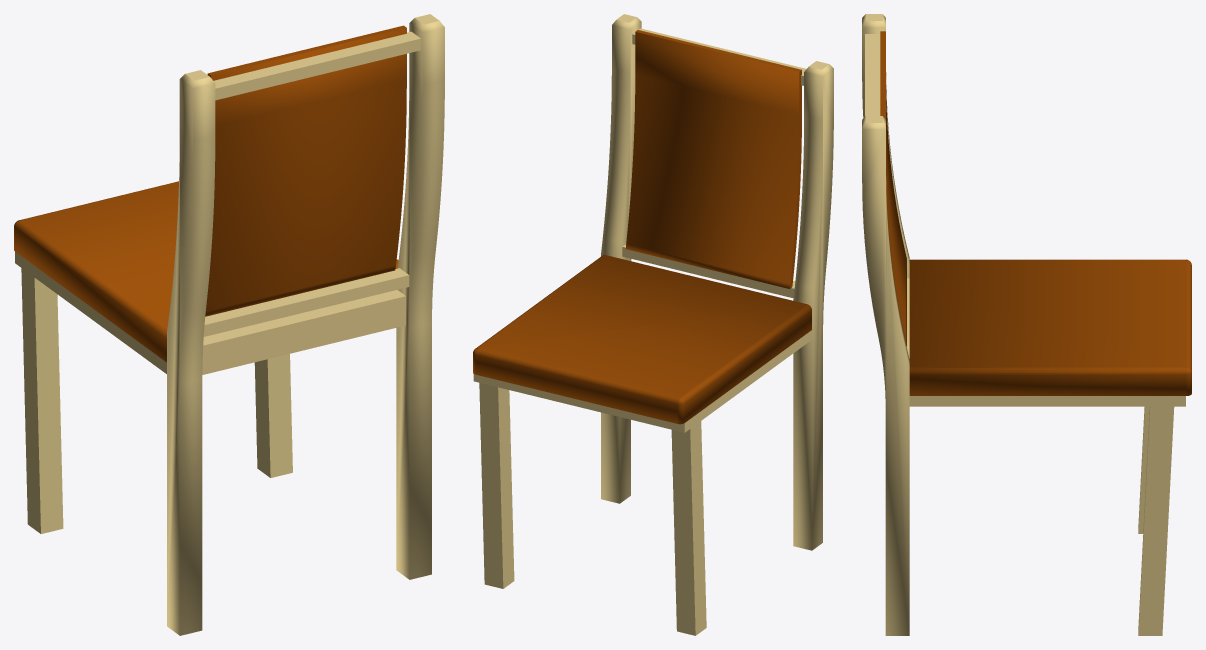
The model's file is mj_chair.dae.
3 renders of one model, left to right at view 1: azimuth 30°, elevation 25°; view 2: azimuth 150°, elevation 25°; view 3: azimuth 270°, elevation 25°, orthographic. The views are drawn at different scales.
Visible parts, largest first — view 1: Komponente#18, Komponente#15, Komponente#15.001, Komponente#13, Komponente#12, Komponente#16.001, Komponente#17, Komponente#16, Komponente#17.001; view 2: Komponente#18, Komponente#13, Komponente#15, Komponente#15.001, Komponente#16.001, Komponente#16, Komponente#12, Komponente#17.001, Komponente#17; view 3: Komponente#13, Komponente#15.001, Komponente#16, Komponente#12, Komponente#18, Komponente#17, Komponente#15, Komponente#16.001.
Boxes of the visible parts, <box> form: Komponente#18: <box>205,25,406,316</box>; Komponente#15: <box>167,70,215,635</box>; Komponente#15.001: <box>396,14,444,579</box>; Komponente#13: <box>14,181,398,362</box>; Komponente#12: <box>15,252,405,374</box>; Komponente#16.001: <box>21,268,63,533</box>; Komponente#17: <box>214,31,420,100</box>; Komponente#16: <box>254,354,292,477</box>; Komponente#17.001: <box>203,268,409,336</box>; Komponente#18: <box>625,30,801,288</box>; Komponente#13: <box>473,255,811,424</box>; Komponente#15: <box>793,61,833,550</box>; Komponente#15.001: <box>601,14,641,503</box>; Komponente#16.001: <box>671,421,706,635</box>; Komponente#16: <box>479,383,514,588</box>; Komponente#12: <box>473,330,811,432</box>; Komponente#17.001: <box>622,244,795,298</box>; Komponente#17: <box>632,28,806,85</box>; Komponente#13: <box>909,259,1191,395</box>; Komponente#15.001: <box>862,116,909,635</box>; Komponente#16: <box>1138,406,1174,635</box>; Komponente#12: <box>906,278,1185,406</box>; Komponente#18: <box>880,31,906,346</box>; Komponente#17: <box>865,34,880,115</box>; Komponente#15: <box>862,14,909,278</box>; Komponente#16.001: <box>1138,406,1149,533</box>.
Size of the model in its own units: 0.45 by 0.5608 by 0.96.
